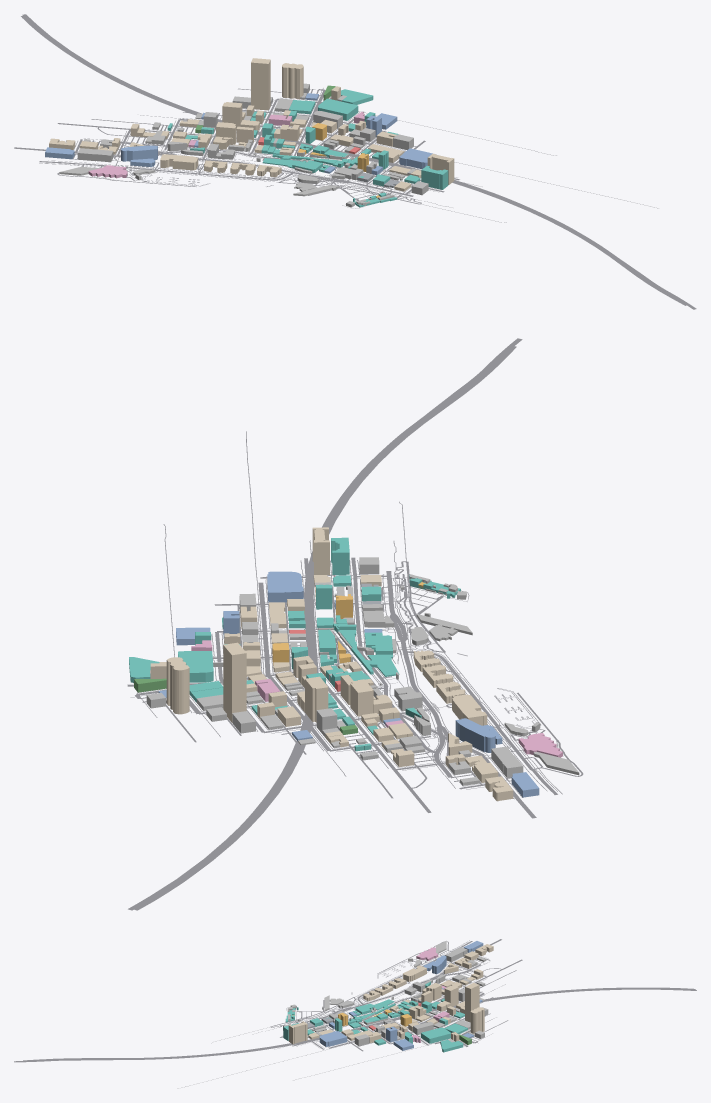
File: pike_place.gltf
3 renders of one model, top to bottom at view 1: azimuth 30°, elevation 25°; view 2: azimuth 150°, elevation 25°; view 3: azimuth 270°, elevation 25°, orthographic. The views are drawn at different scales.
Bounding box in the file's own units: 1461 × 154 × 2813.
